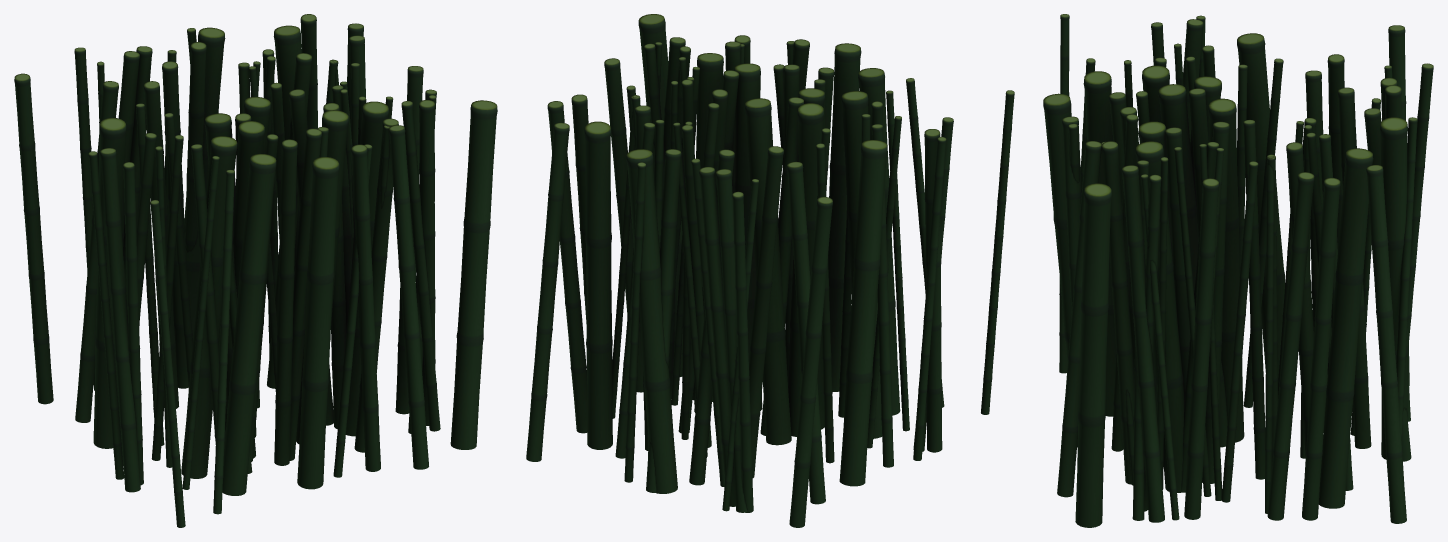
The model's file is Bamboo_Thicket.fbx.
3 renders of one model, left to right at view 1: azimuth 30°, elevation 25°; view 2: azimuth 150°, elevation 25°; view 3: azimuth 270°, elevation 25°, orthographic. The views are drawn at different scales.
Visible parts, largest first — view 1: Bamboo_Tile.002; view 2: Bamboo_Tile.002; view 3: Bamboo_Tile.002.
Part boxes in pixels (x1=…): Bamboo_Tile.002: x1=14, y1=14, x2=497, y2=527; Bamboo_Tile.002: x1=526, y1=14, x2=1014, y2=527; Bamboo_Tile.002: x1=1043, y1=14, x2=1433, y2=527.
Size of the model in its own units: 153 by 135 by 138.
